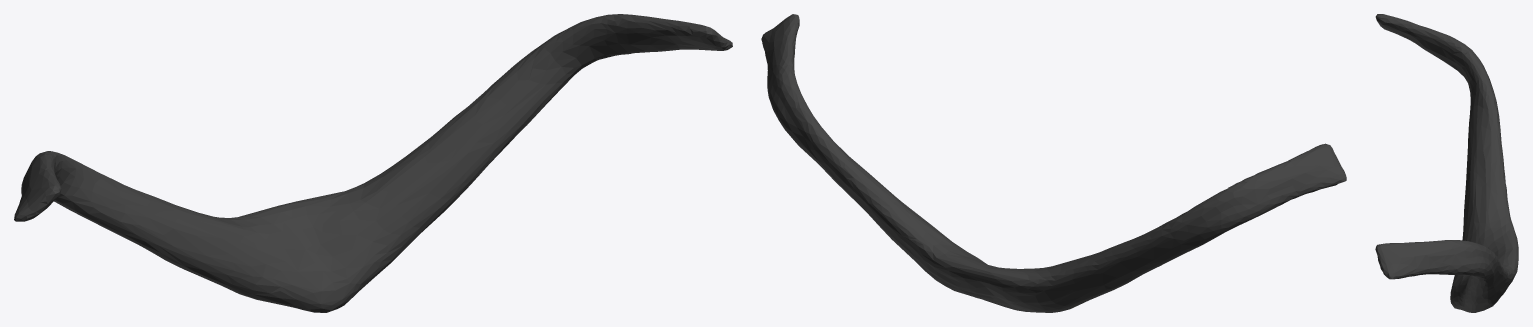
File: m_cervicoauricularis_medius.glb
3 renders of one model, left to right at view 1: azimuth 30°, elevation 25°; view 2: azimuth 150°, elevation 25°; view 3: azimuth 270°, elevation 25°, orthographic. The views are drawn at different scales.
Visible parts, largest first — view 1: m_cervicoauricularis_medius; view 2: m_cervicoauricularis_medius; view 3: m_cervicoauricularis_medius.
Part boxes in pixels (box(x1,y1,x2,y2)): m_cervicoauricularis_medius: box(14, 14, 732, 312); m_cervicoauricularis_medius: box(761, 14, 1346, 312); m_cervicoauricularis_medius: box(1375, 14, 1518, 312).
Bounding box in the file's own units: 0.00283 × 0.000917 × 0.000675.
1 material, 1 textured.
